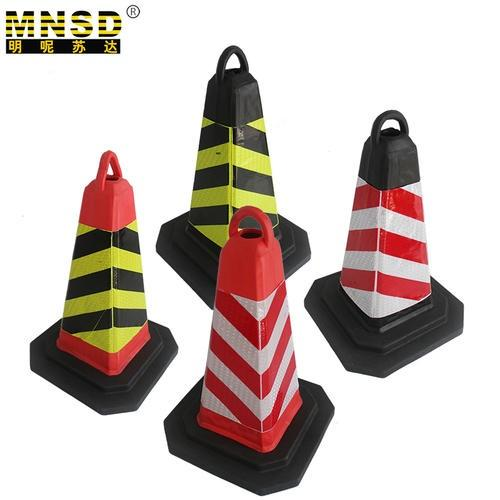cone_barrel: (178, 217, 322, 470), (312, 109, 459, 354), (161, 49, 308, 284), (35, 159, 173, 397)
